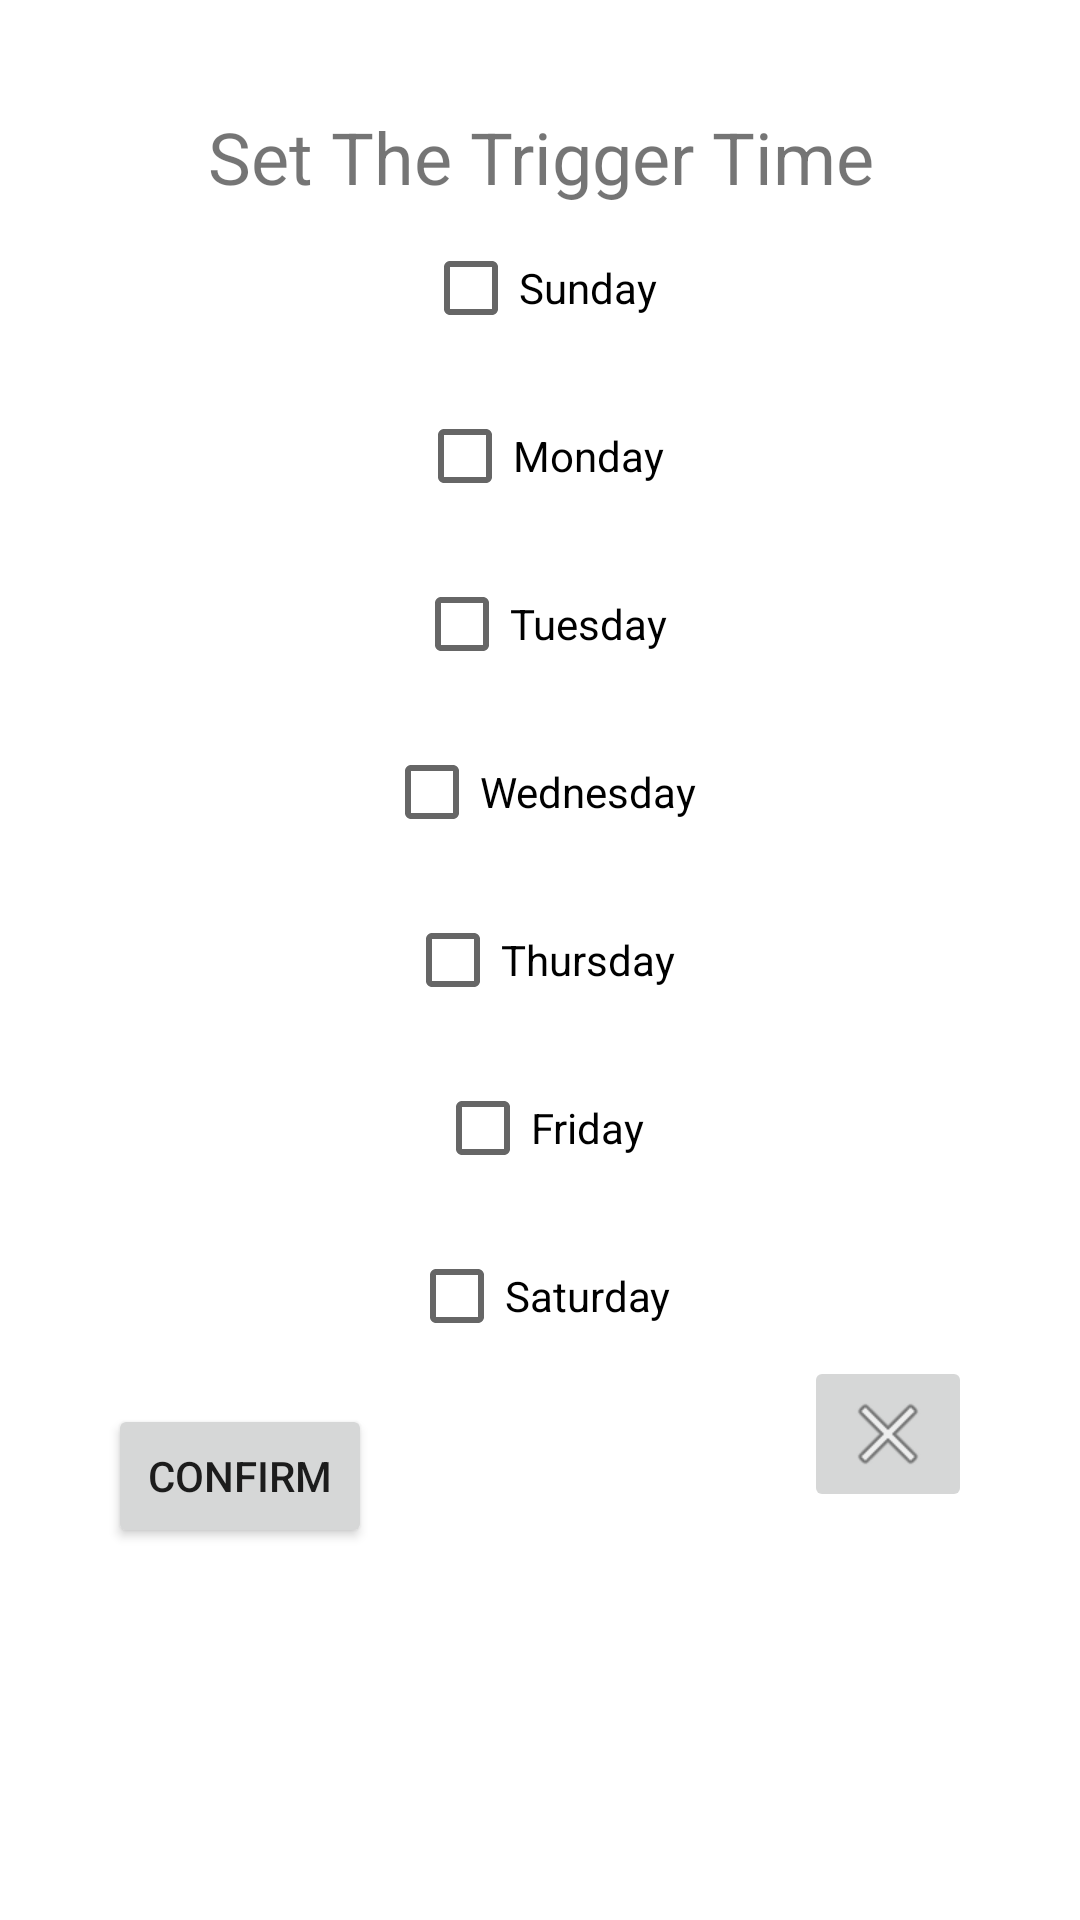

Screen size 1080 x 1920. Icon name, then its center in pixels as point (x, y):
close clear cancel: point (888, 1434)
